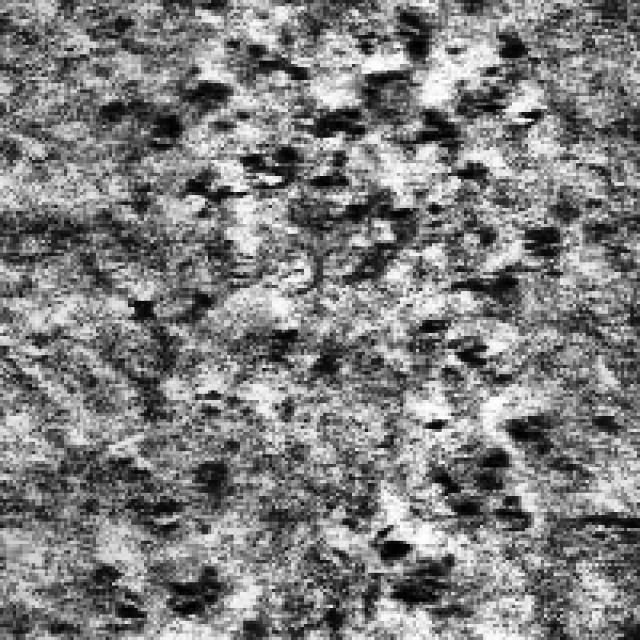Crazing: (93, 7, 560, 276), (323, 268, 541, 628), (93, 448, 237, 624)
